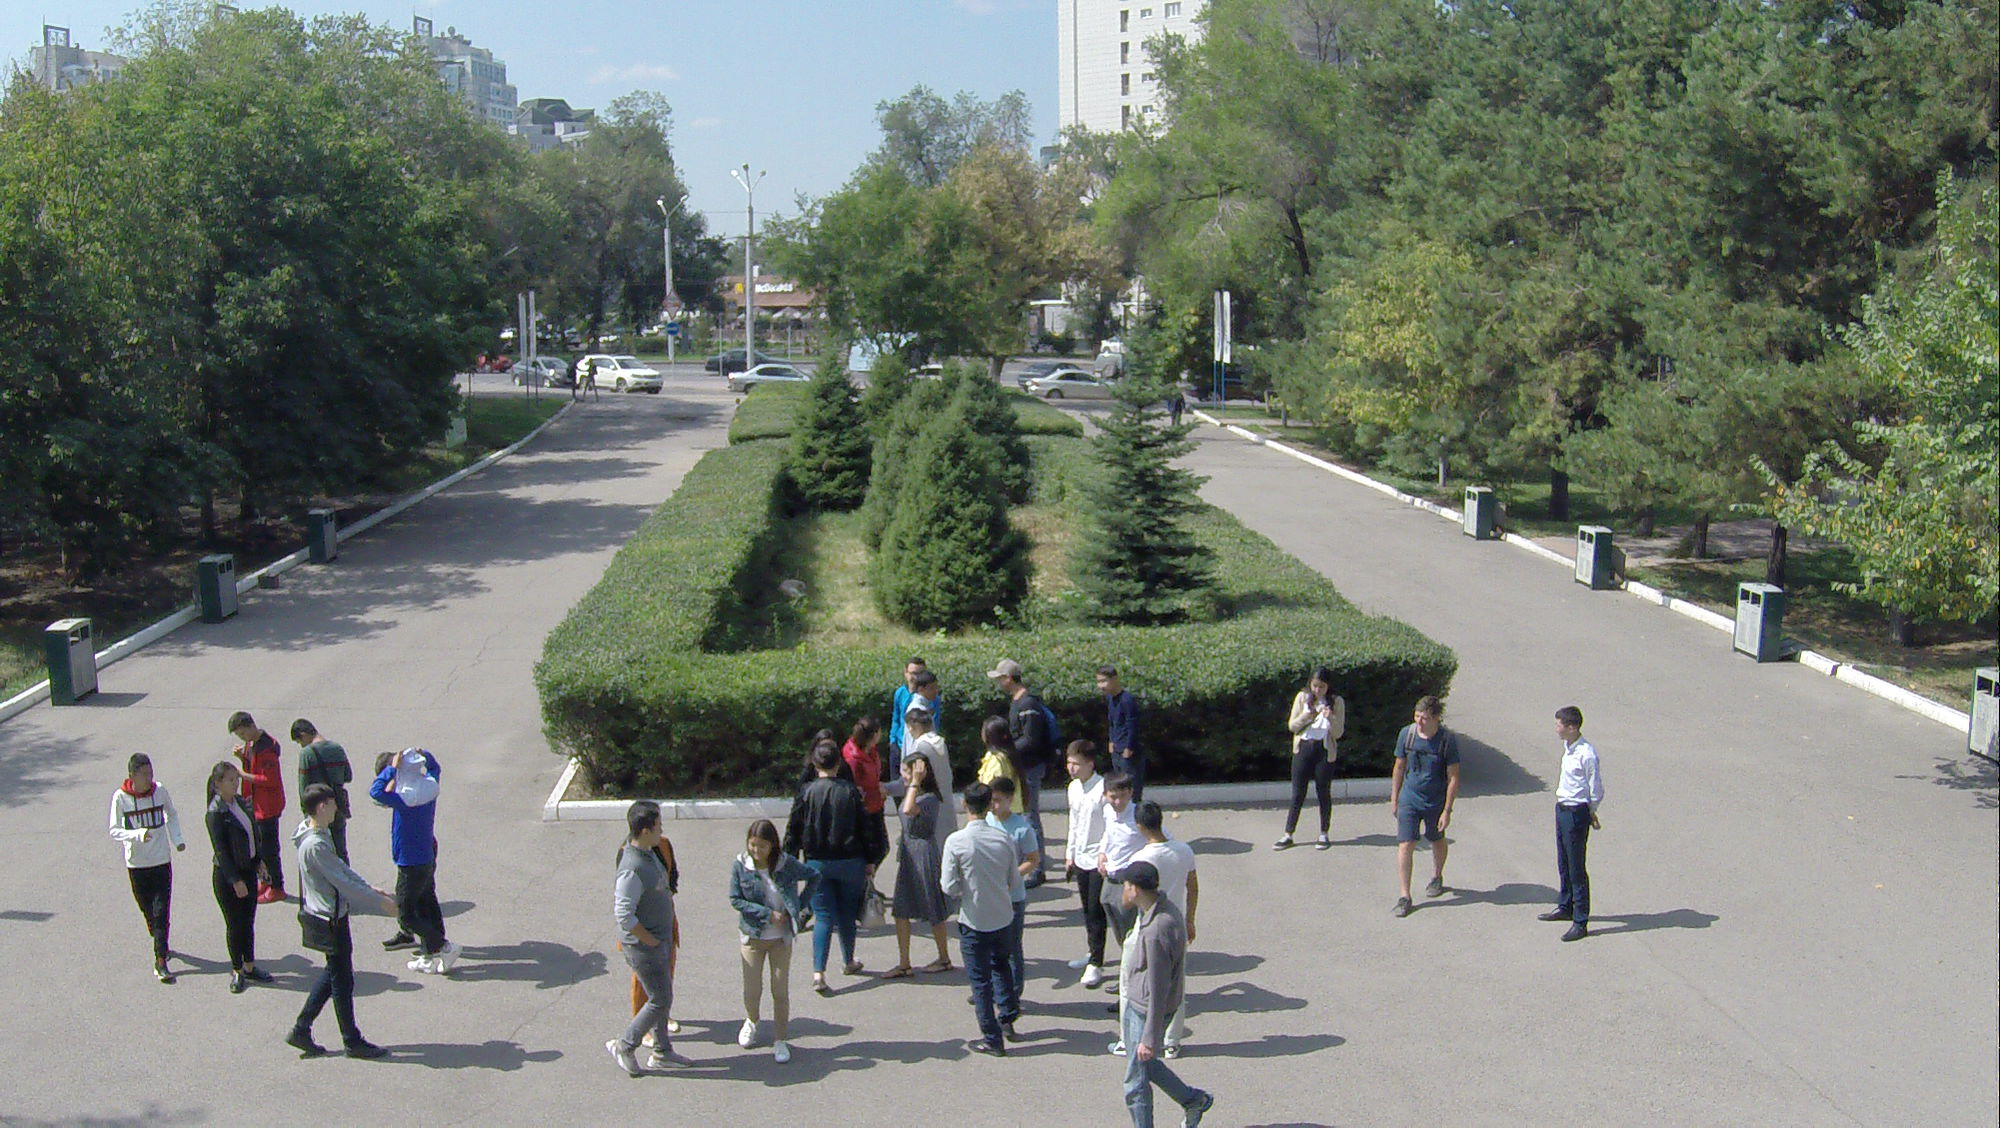person: (276, 785, 403, 1072), (1105, 845, 1229, 1128), (368, 730, 489, 987), (947, 789, 1039, 1072), (724, 822, 824, 1078), (99, 753, 191, 1003), (605, 824, 691, 1078), (193, 749, 272, 999), (791, 753, 860, 1005), (1385, 689, 1457, 916), (1057, 739, 1116, 995), (1549, 712, 1610, 958), (228, 699, 299, 899), (882, 755, 945, 978), (1272, 664, 1335, 851), (1126, 808, 1195, 914), (1089, 664, 1143, 780), (991, 651, 1047, 747)
